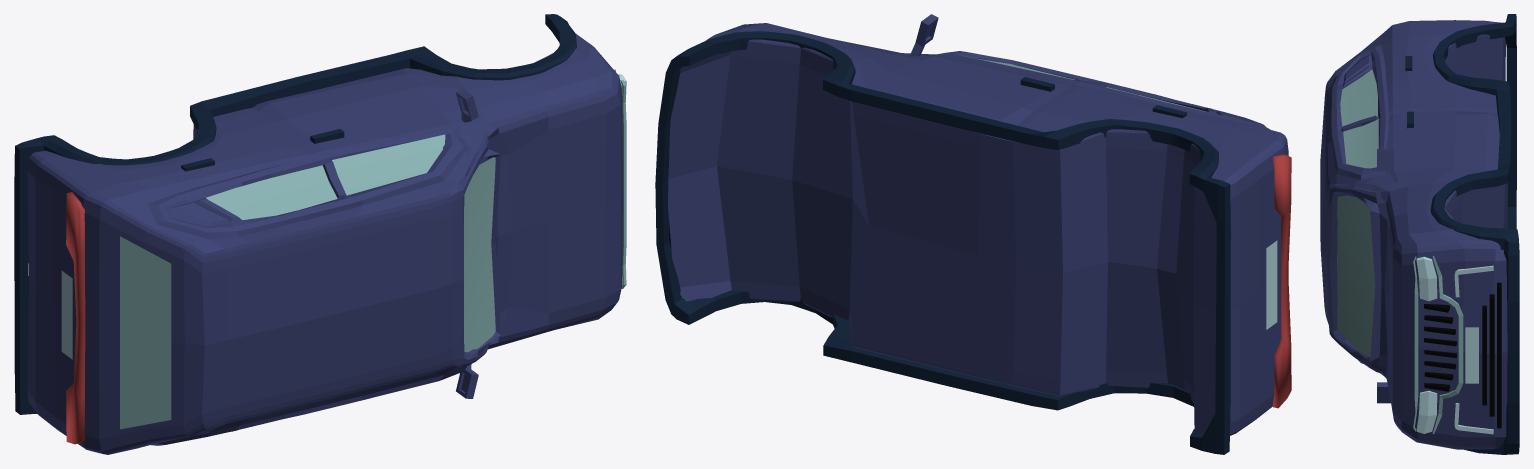
3 views of the same model, side by side, from view 1: azimuth 30°, elevation 25°; view 2: azimuth 150°, elevation 25°; view 3: azimuth 270°, elevation 25° (orthographic). The views are drawn at different scales.
Visible parts, largest first — view 1: shadeBlue, shadeWhite, shadeBlack, shadeRed; view 2: shadeBlue, shadeBlack, shadeRed, shadeWhite; view 3: shadeBlue, shadeBlack, shadeWhite.
Part boxes in pixels (x1,y1,x2,y2): shadeBlue: (27, 34, 622, 454); shadeWhite: (61, 69, 626, 429); shadeBlack: (14, 14, 576, 414); shadeRed: (66, 192, 85, 444); shadeBlue: (668, 14, 1288, 435); shadeBlack: (655, 31, 1230, 454); shadeRed: (1272, 154, 1291, 408); shadeWhite: (962, 55, 1277, 329); shadeBlue: (1320, 20, 1507, 449); shadeBlack: (1405, 14, 1519, 454); shadeWhite: (1337, 69, 1493, 434).
Size of the model in its own units: 2.13 by 1.08 by 0.7741.
